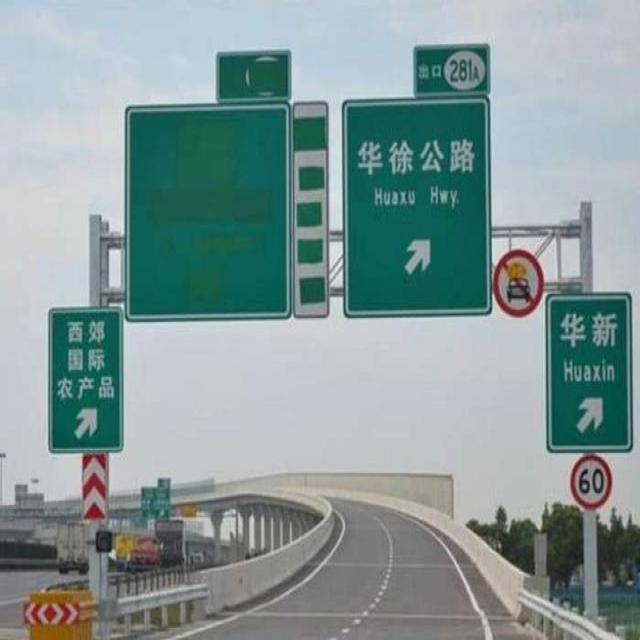speed limit 60: (569, 453, 612, 510)
